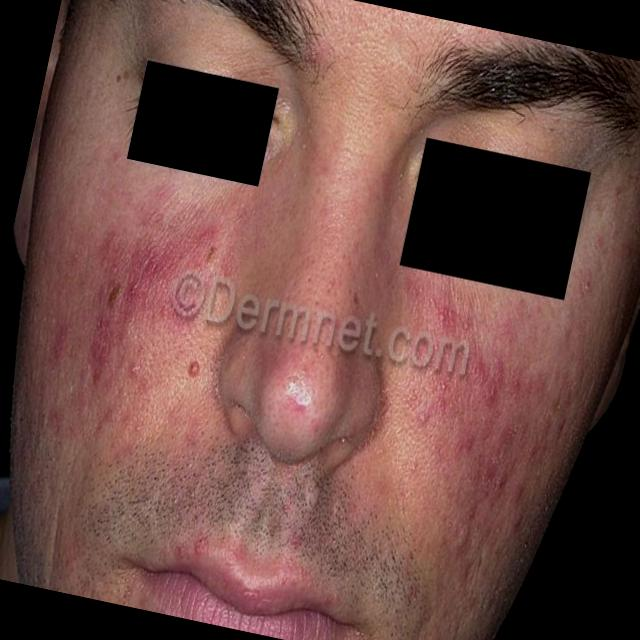skinredness: (0, 147, 253, 473), (360, 297, 602, 569), (392, 130, 596, 309)
